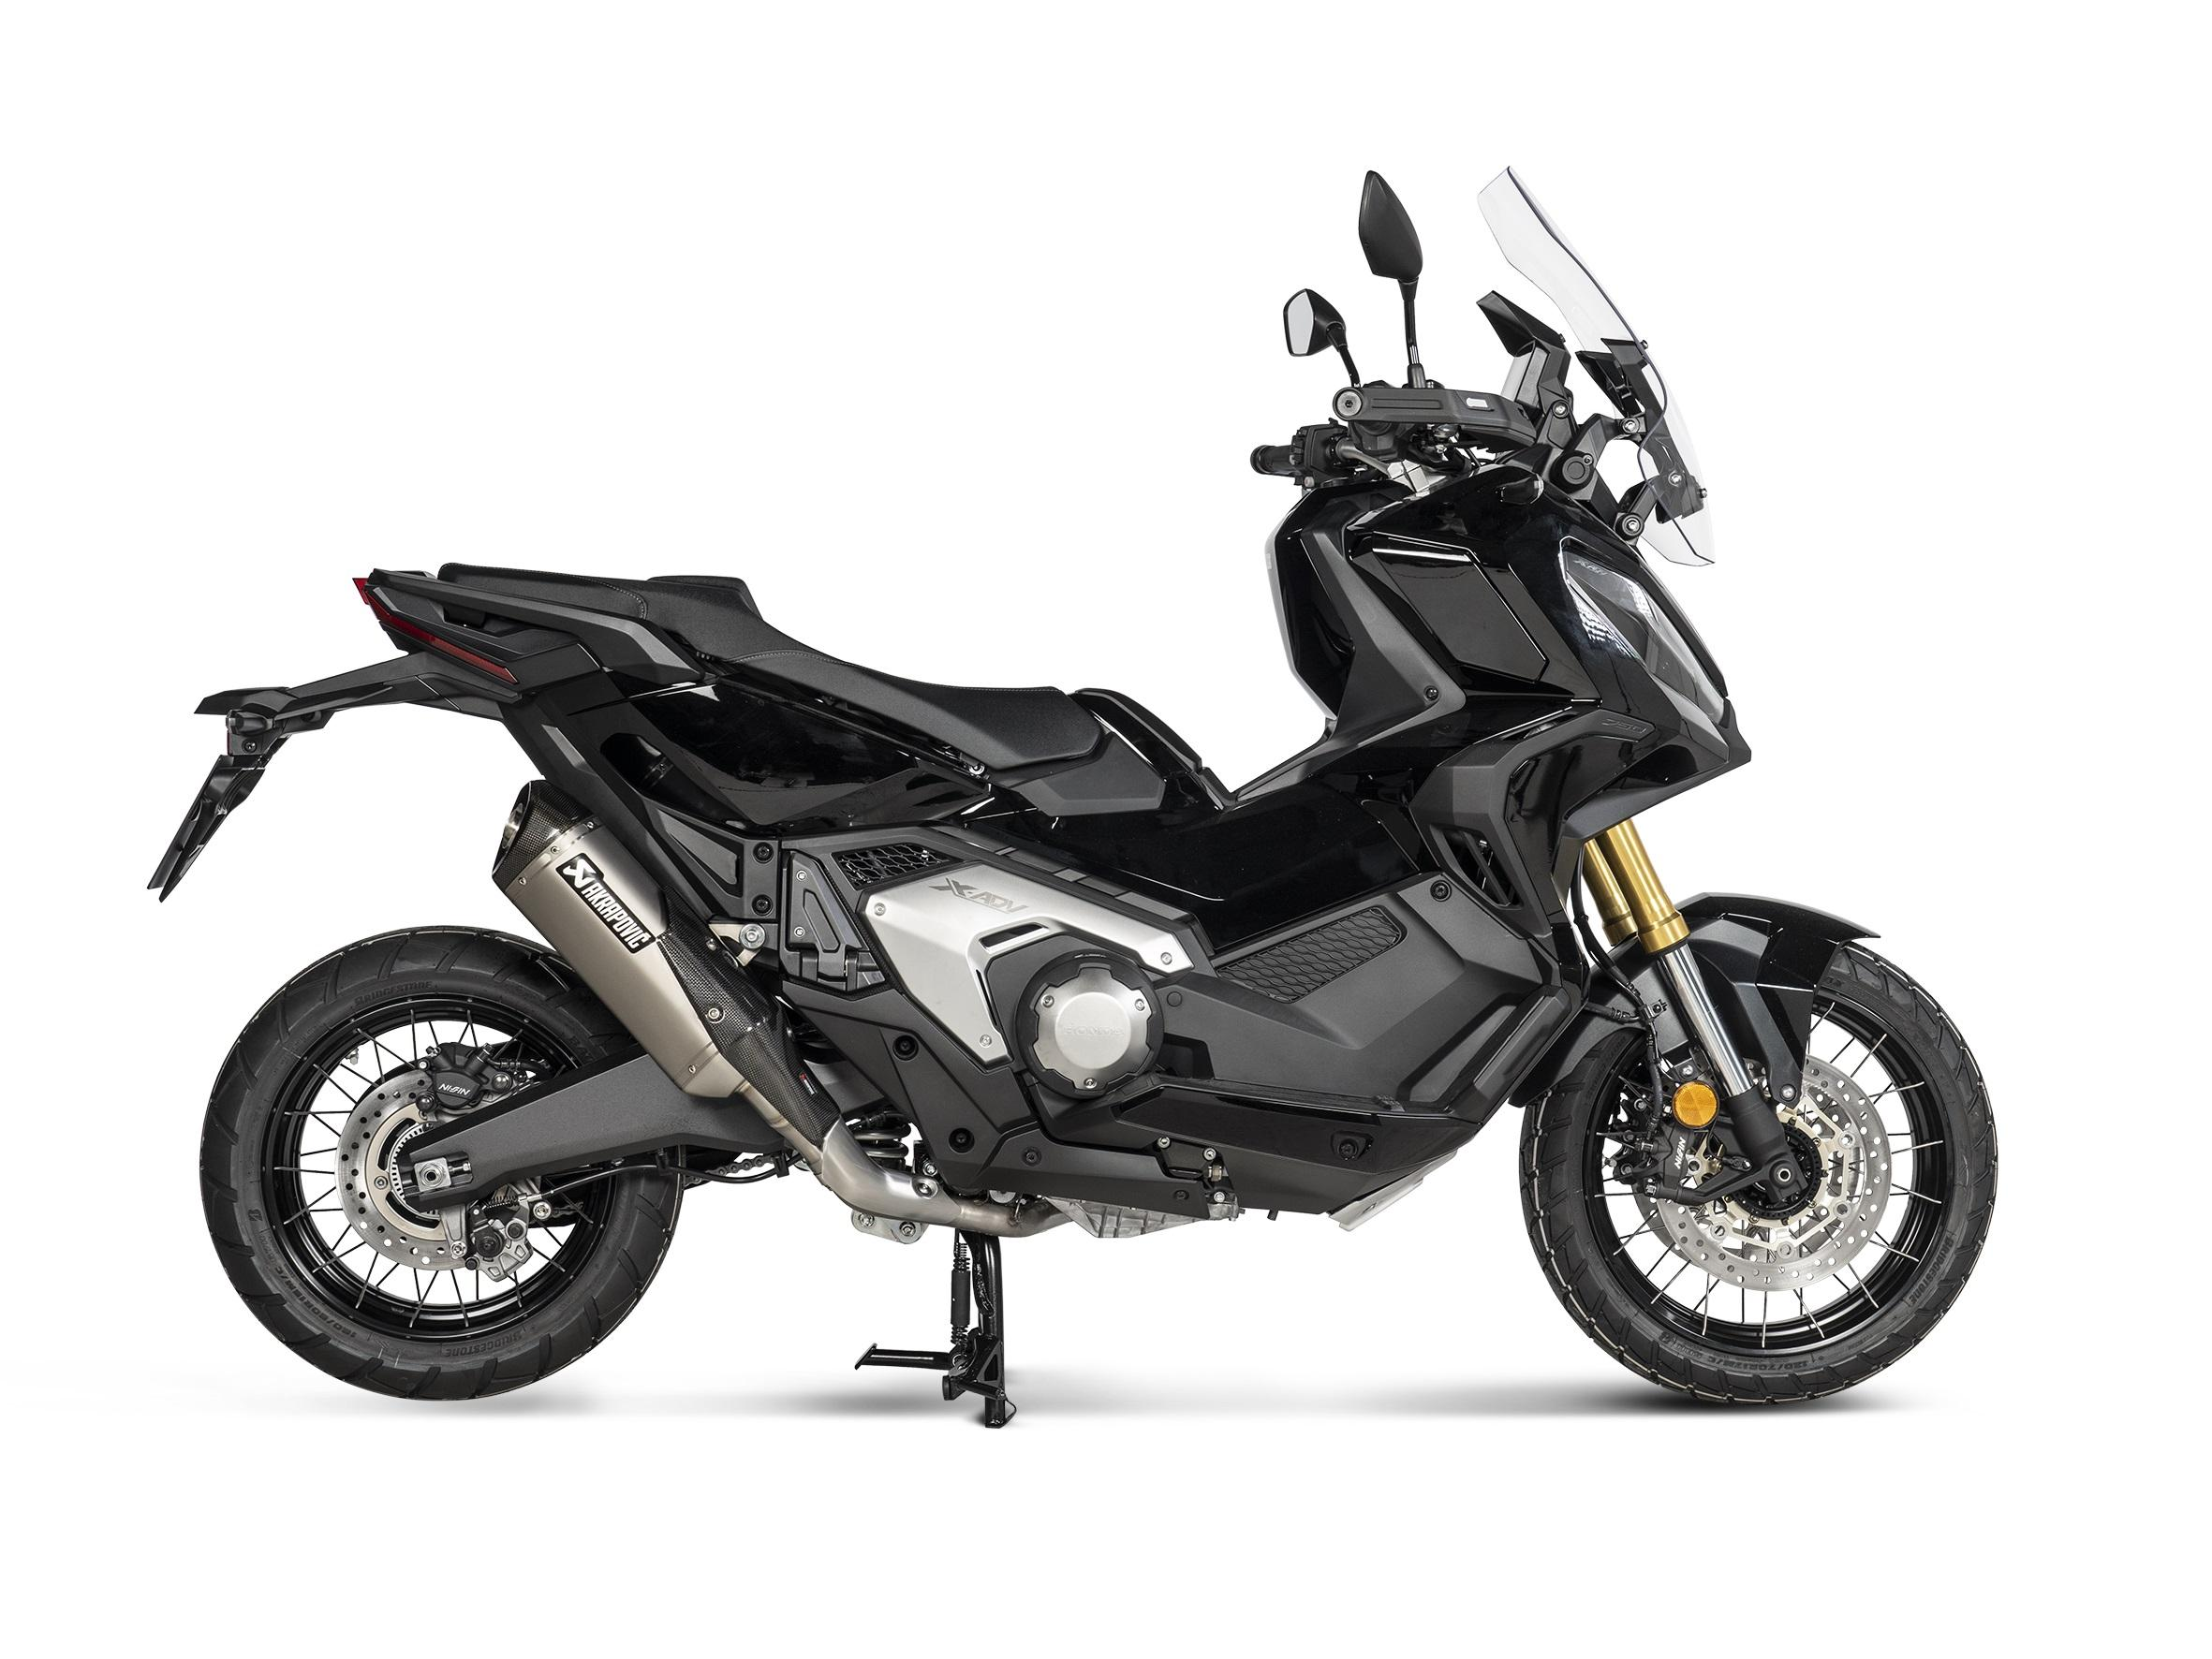engine-chasis: (776, 725, 1571, 1239), (854, 1229, 1016, 1429)
exhaust: (492, 779, 1074, 1244)
frontside: (1311, 166, 1884, 1206)
handlebar: (1250, 169, 1581, 498)
motorbike: (148, 169, 1999, 1427)
rearside: (146, 568, 999, 1063), (396, 1042, 793, 1213)
seat: (438, 561, 1103, 770)
tank: (1069, 479, 1466, 814)
wheel: (199, 924, 687, 1401), (1518, 941, 1999, 1406), (1571, 845, 1666, 1131), (526, 1150, 802, 1202), (685, 1154, 774, 1190)
